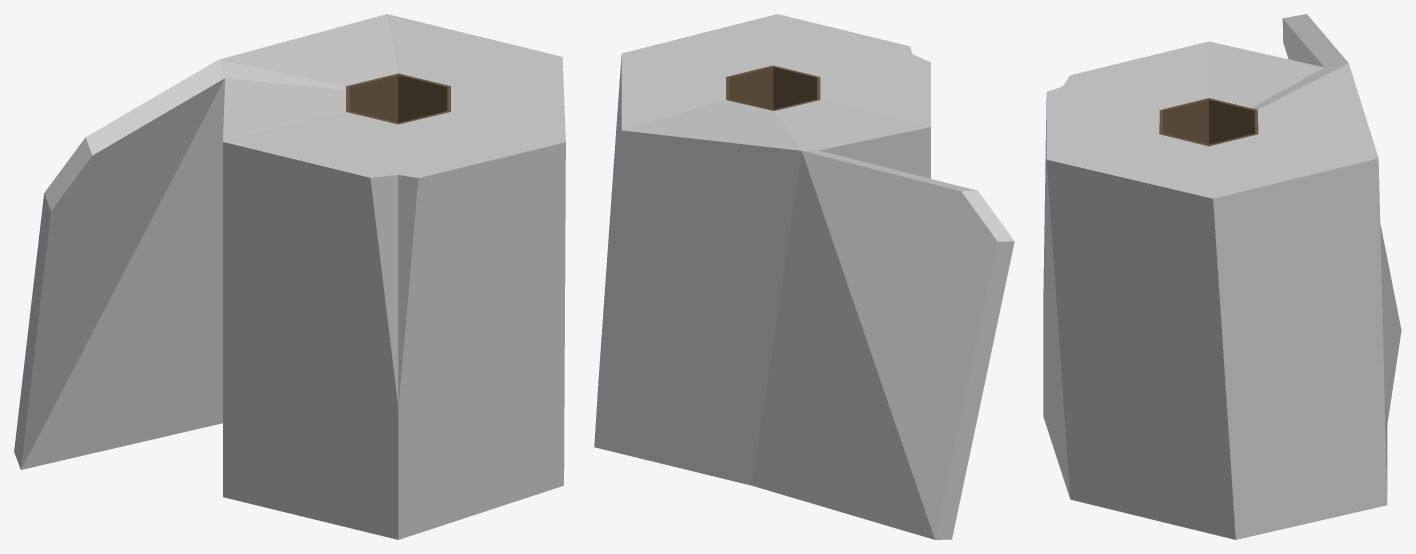
Rendered from SM_ToiletPaper.fbx.
3 views of the same model, side by side, from view 1: azimuth 30°, elevation 25°; view 2: azimuth 150°, elevation 25°; view 3: azimuth 270°, elevation 25° (orthographic). The views are drawn at different scales.
Visible parts, largest first — view 1: ToiletPaper; view 2: ToiletPaper; view 3: ToiletPaper.
Part boxes in pixels (x1,y1,x2,y2): ToiletPaper: (14,14,565,539); ToiletPaper: (594,14,1014,539); ToiletPaper: (1043,14,1401,539).
Size of the model in its own units: 32.35 by 23.87 by 21.81.
